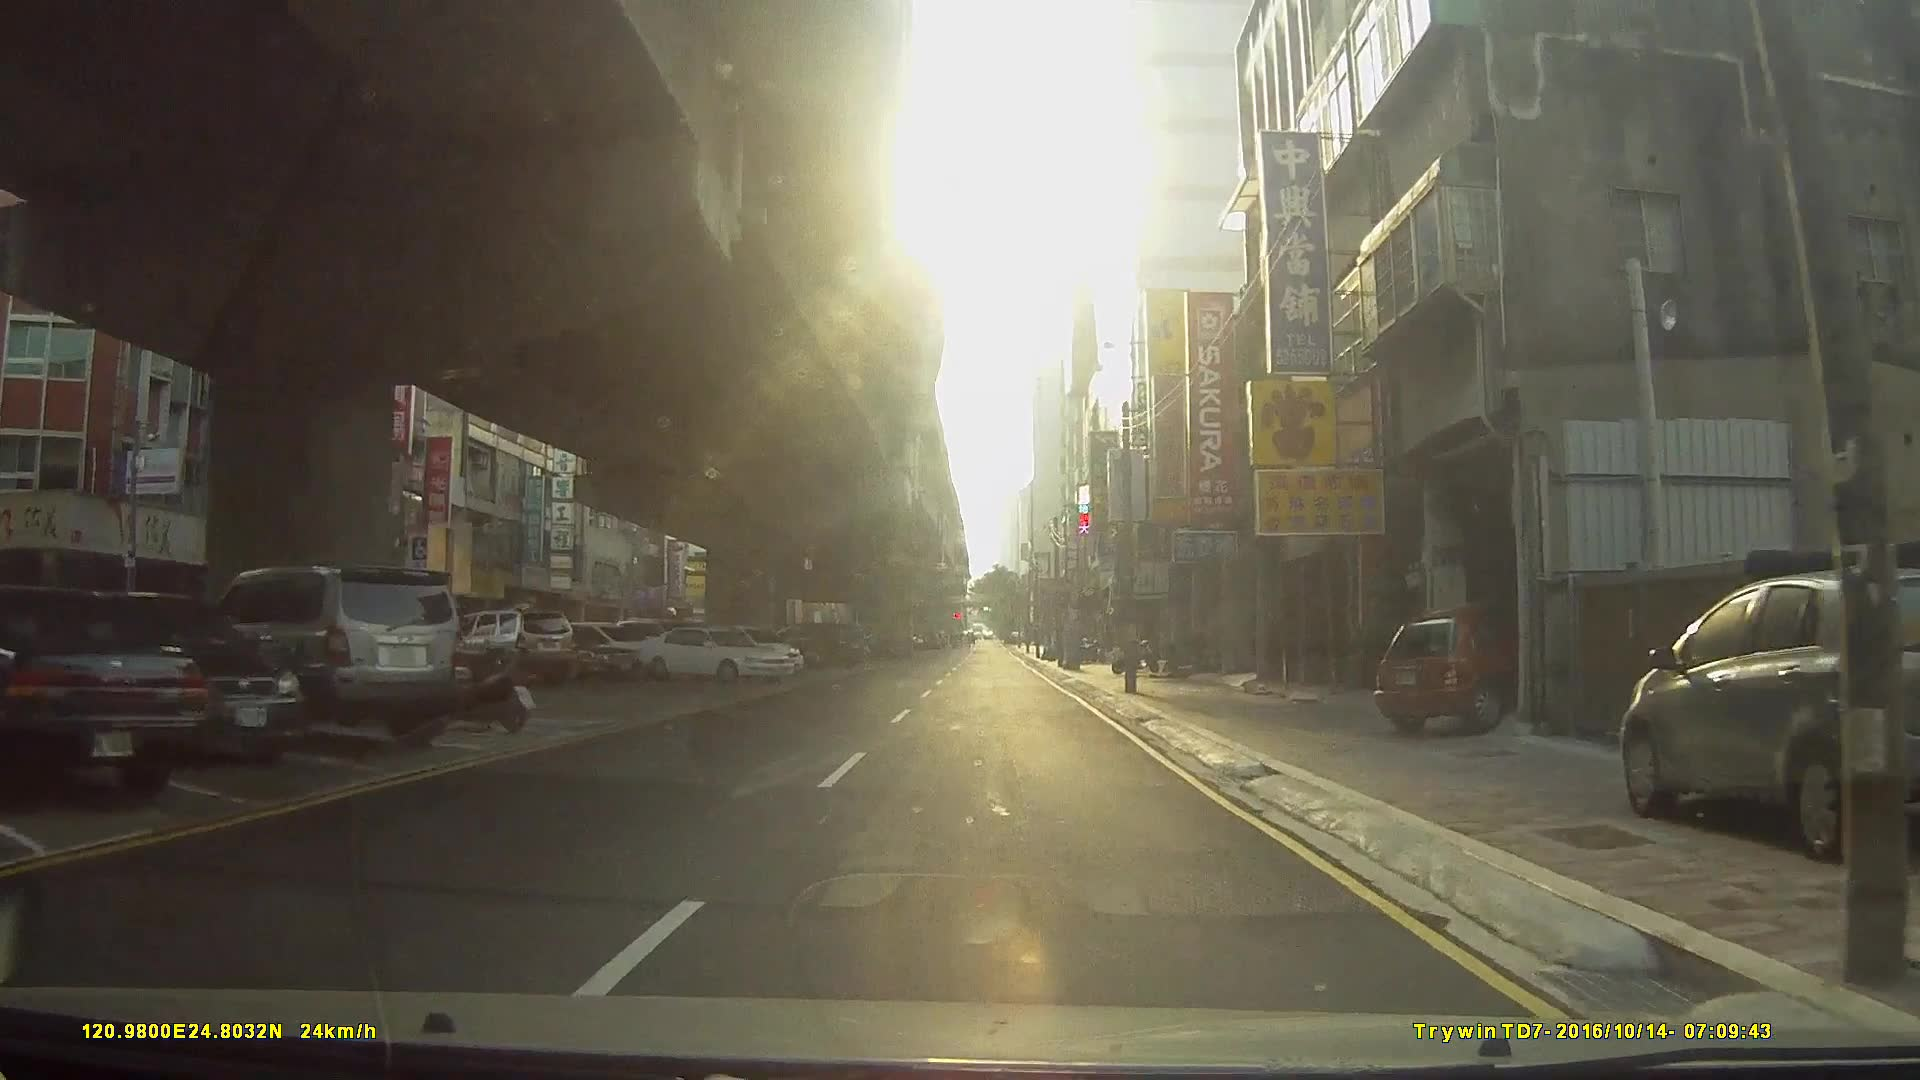vehicle: (1618, 564, 1920, 860), (175, 563, 468, 753), (33, 588, 306, 766), (0, 583, 204, 796), (1374, 601, 1552, 732), (440, 607, 576, 680), (477, 622, 636, 684), (632, 622, 794, 682)
